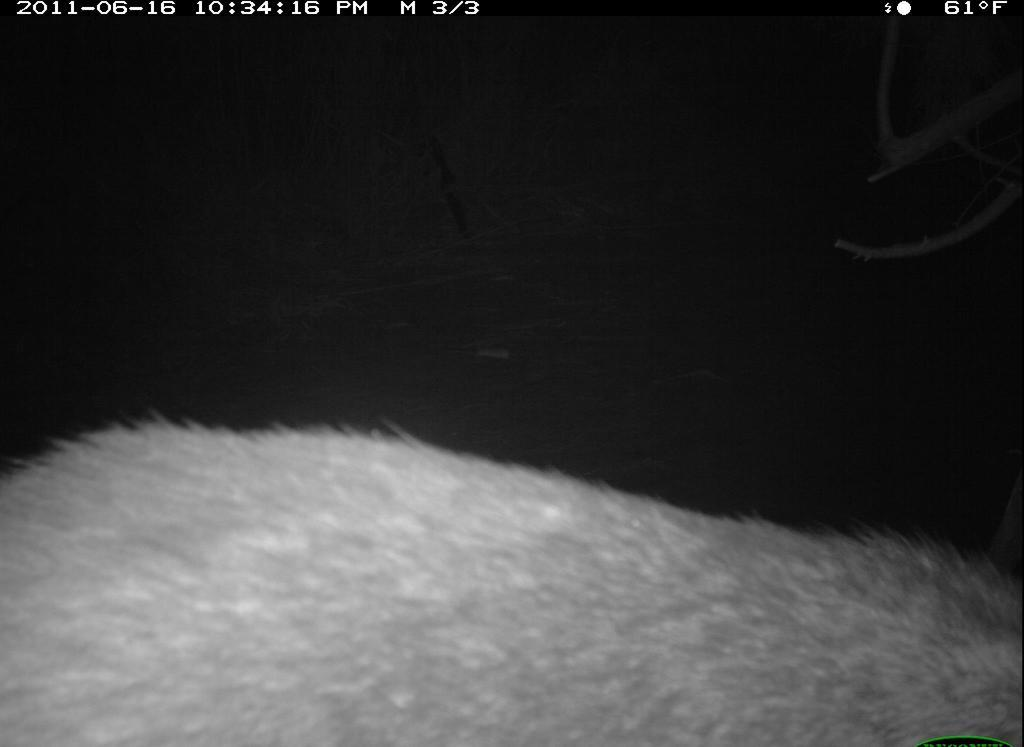raccoon: (3, 405, 1019, 747)
